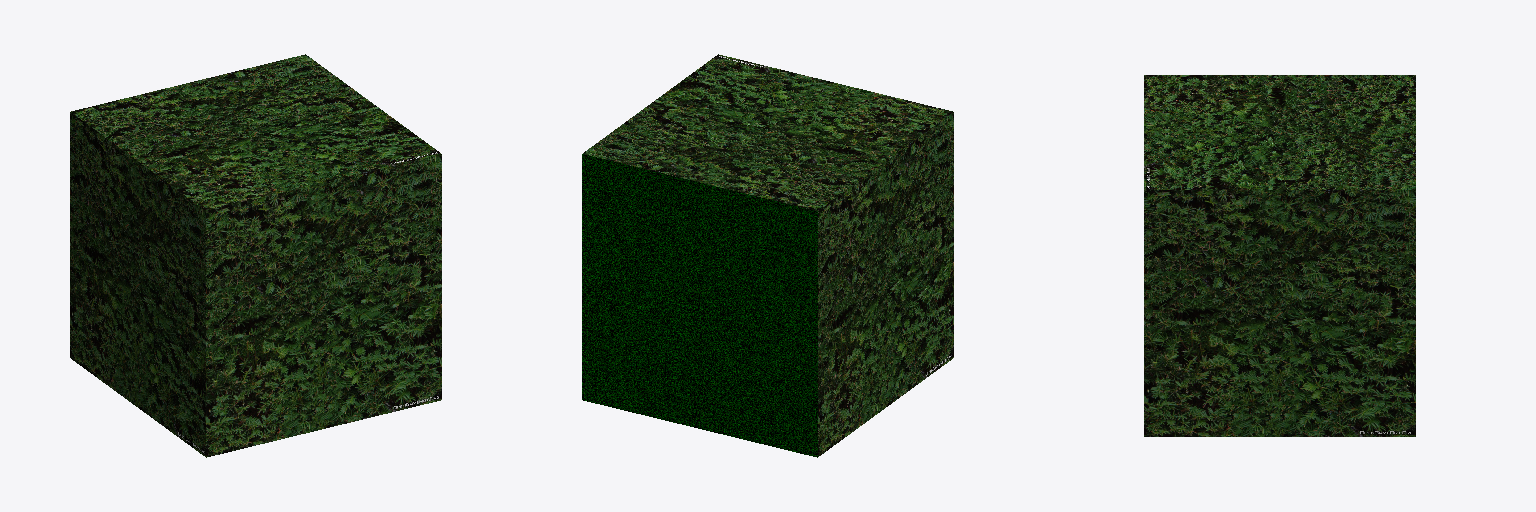
3 views of the same model, side by side, from view 1: azimuth 30°, elevation 25°; view 2: azimuth 150°, elevation 25°; view 3: azimuth 270°, elevation 25° (orthographic).
Parts seen in each view (by area): view 1: cube; view 2: cube; view 3: cube.
Boxes of the visible parts, box(x1,y1,x2,y2) form: cube: box(70, 54, 441, 457); cube: box(582, 54, 953, 457); cube: box(1144, 75, 1415, 436).
Size of the model in its own units: 1 by 1 by 1.
2 materials, 2 textured.